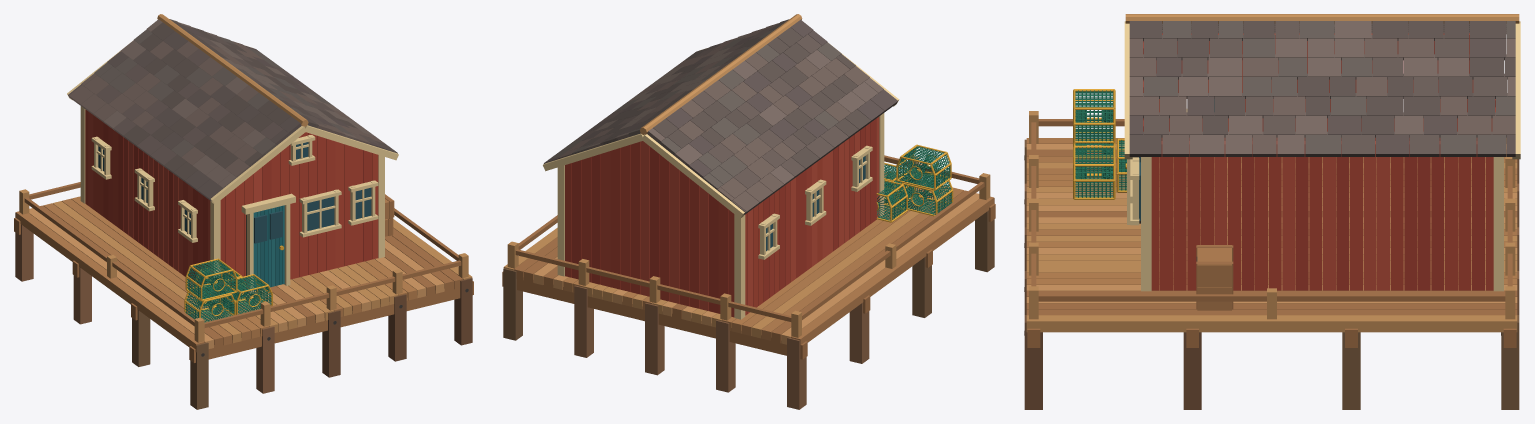
File: crab_wharf_shack.glb
The picture shows the model from 3 angles, left to right: view 1: azimuth 30°, elevation 25°; view 2: azimuth 150°, elevation 25°; view 3: azimuth 270°, elevation 25°; orthographic projection. The views are drawn at different scales.
Parts seen in each view (by area): view 1: Pier • decking, stringers and rail.001, Boathouse • siding and joinery.001, Roof • staggered split shakes and ridge cap.001, Working gear • pots and fish boxes.001; view 2: Boathouse • siding and joinery.001, Pier • decking, stringers and rail.001, Roof • staggered split shakes and ridge cap.001, Working gear • pots and fish boxes.001; view 3: Roof • staggered split shakes and ridge cap.001, Boathouse • siding and joinery.001, Pier • decking, stringers and rail.001, Working gear • pots and fish boxes.001.
Boxes of the visible parts, left/top/right/bottom form: Pier • decking, stringers and rail.001: left=14, top=182, right=473, bottom=409; Boathouse • siding and joinery.001: left=80, top=106, right=384, bottom=295; Roof • staggered split shakes and ridge cap.001: left=67, top=14, right=398, bottom=204; Working gear • pots and fish boxes.001: left=184, top=194, right=394, bottom=322; Boathouse • siding and joinery.001: left=557, top=113, right=884, bottom=319; Pier • decking, stringers and rail.001: left=502, top=155, right=995, bottom=409; Roof • staggered split shakes and ridge cap.001: left=543, top=14, right=899, bottom=218; Working gear • pots and fish boxes.001: left=876, top=144, right=953, bottom=222; Roof • staggered split shakes and ridge cap.001: left=1124, top=14, right=1520, bottom=159; Boathouse • siding and joinery.001: left=1125, top=33, right=1503, bottom=291; Pier • decking, stringers and rail.001: left=1024, top=111, right=1519, bottom=409; Working gear • pots and fish boxes.001: left=1073, top=89, right=1233, bottom=310.
Size of the model in its own units: 7.48 by 5.81 by 8.45.
